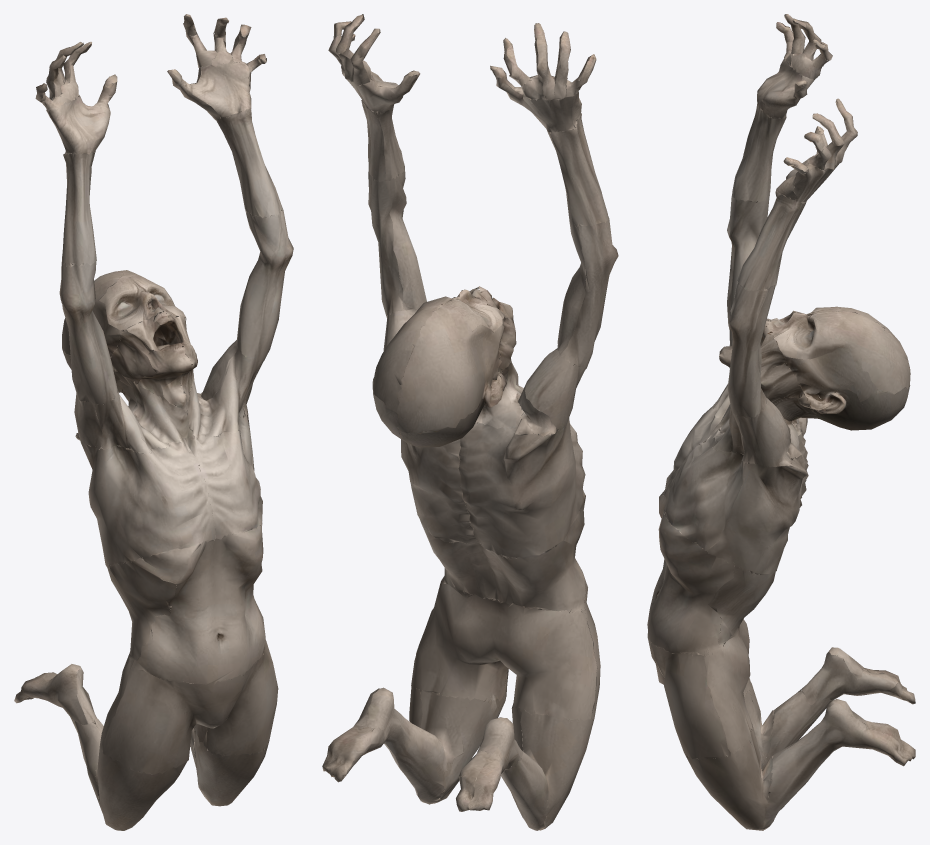
The model's file is soul.glb.
The picture shows the model from 3 angles, left to right: view 1: azimuth 30°, elevation 25°; view 2: azimuth 150°, elevation 25°; view 3: azimuth 270°, elevation 25°; orthographic projection. The views are drawn at different scales.
Size of the model in its own units: 0.6 by 1.9 by 0.6125.
1 material, 1 textured.
